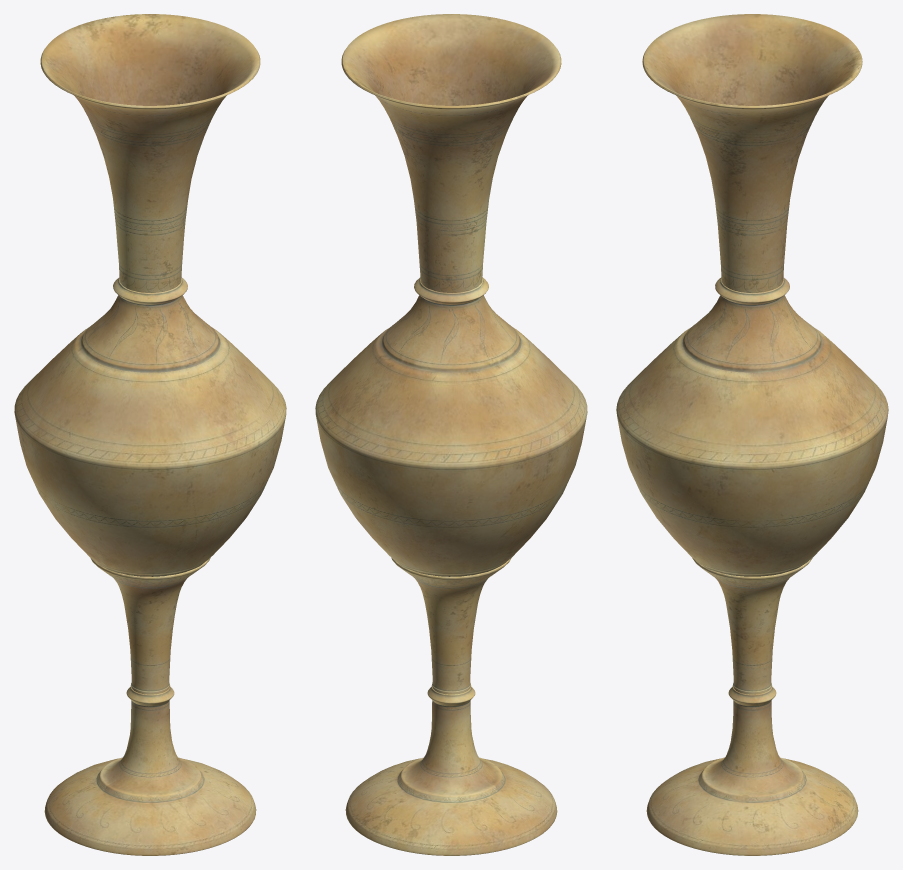
The model's file is brass_vase_01.glb.
3 views of the same model, side by side, from view 1: azimuth 30°, elevation 25°; view 2: azimuth 150°, elevation 25°; view 3: azimuth 270°, elevation 25° (orthographic).
Parts seen in each view (by area): view 1: brass_vase_01_mesh; view 2: brass_vase_01_mesh; view 3: brass_vase_01_mesh.
Part boxes in pixels (x1=…): brass_vase_01_mesh: x1=14, y1=14, x2=286, y2=855; brass_vase_01_mesh: x1=315, y1=14, x2=587, y2=855; brass_vase_01_mesh: x1=616, y1=14, x2=888, y2=855.
Bounding box in the file's own units: 0.2273 × 0.6925 × 0.2273.
Materials: 1 (1 with a texture image).
